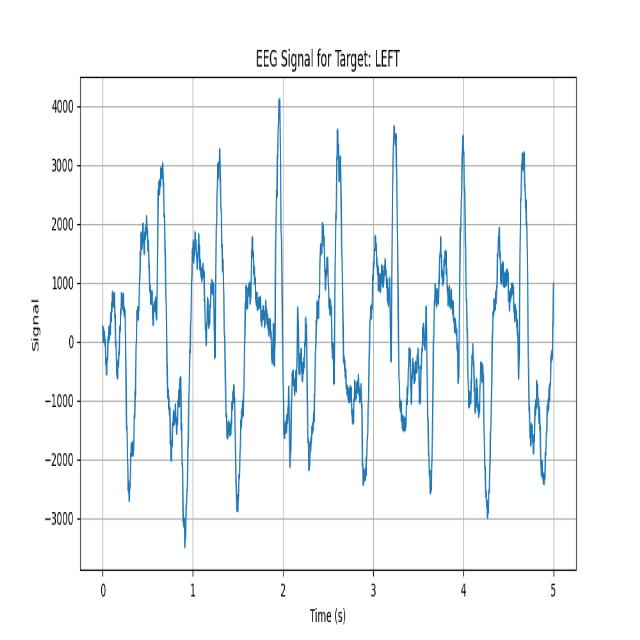LEFT: (186, 103, 256, 544), (255, 93, 323, 546), (435, 84, 499, 542), (125, 104, 186, 543), (322, 82, 379, 548), (379, 82, 434, 551), (499, 82, 554, 546)
